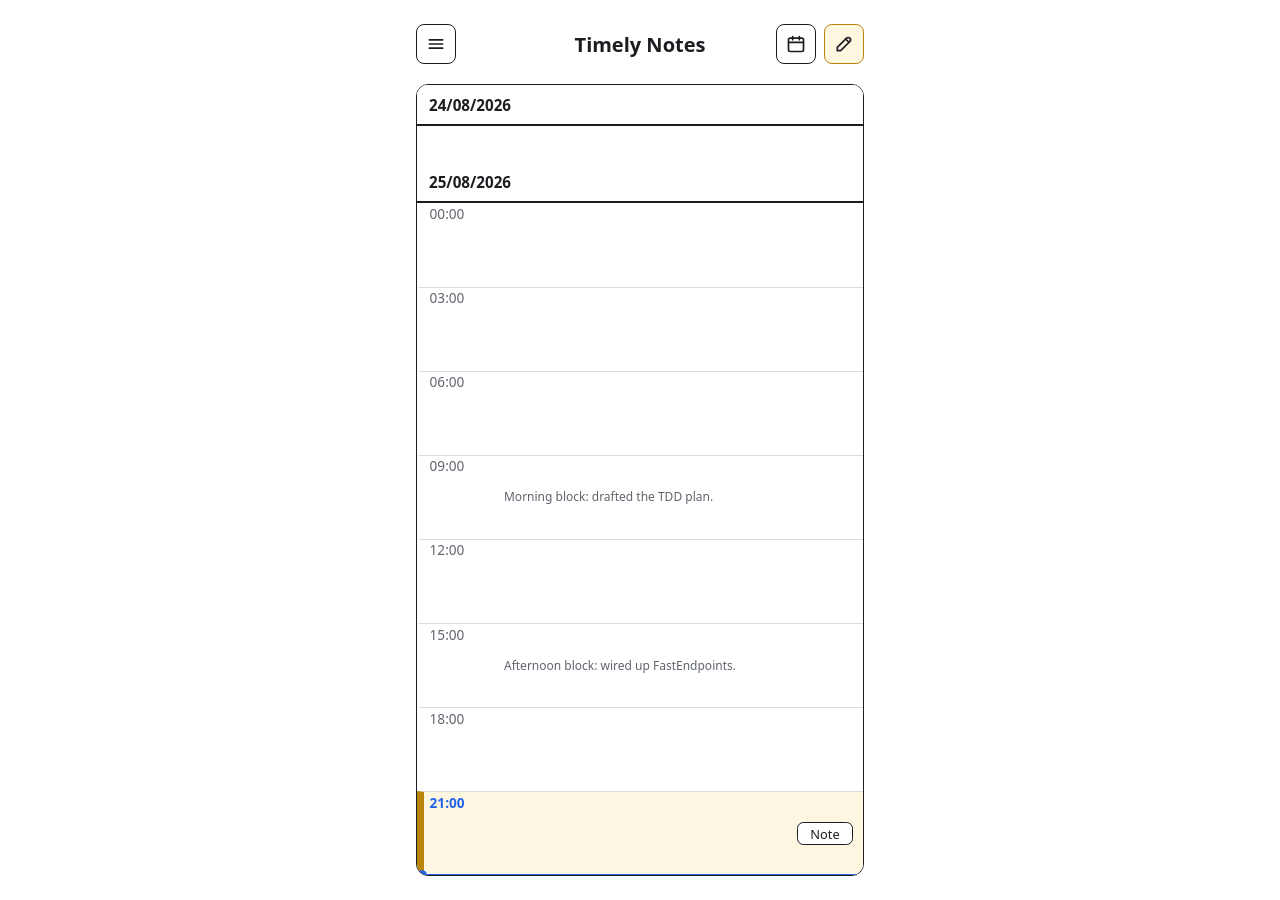
App — live clock › leaves an open dialog alone over midnight
(page scrolled)
Click the button "Note" at (825, 834), box [796,822,853,845]
Wait 120000 ms
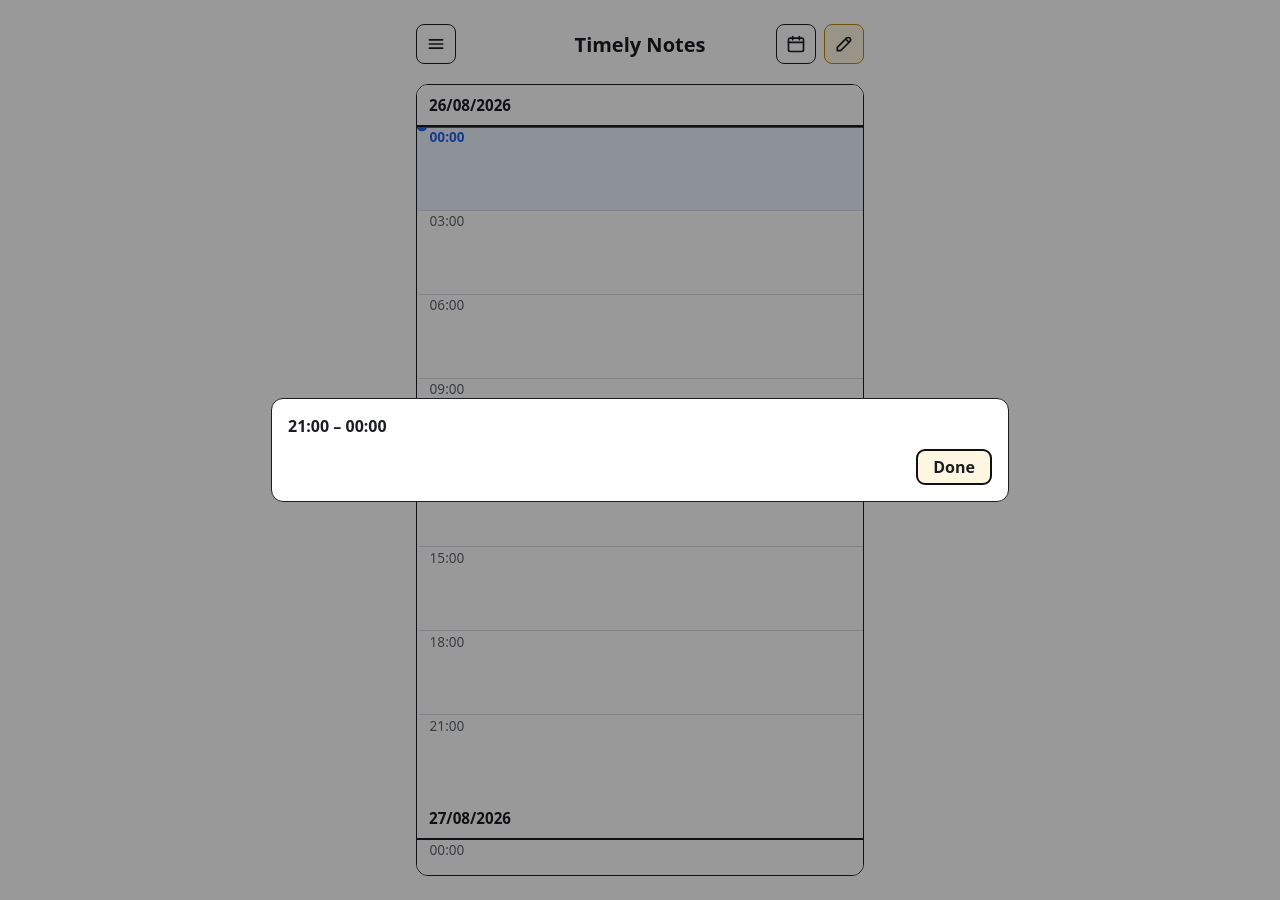
Expected: the dialog is shown, [271,398,1009,502]
Expected: the heading "21:00 – 00:00" is shown, [288,415,387,437]
